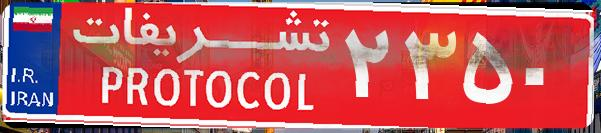0: (520, 20, 580, 115)
2: (340, 20, 400, 115)
3: (400, 20, 460, 115)
5: (460, 20, 520, 115)
تشریفات: (60, 8, 340, 125)
